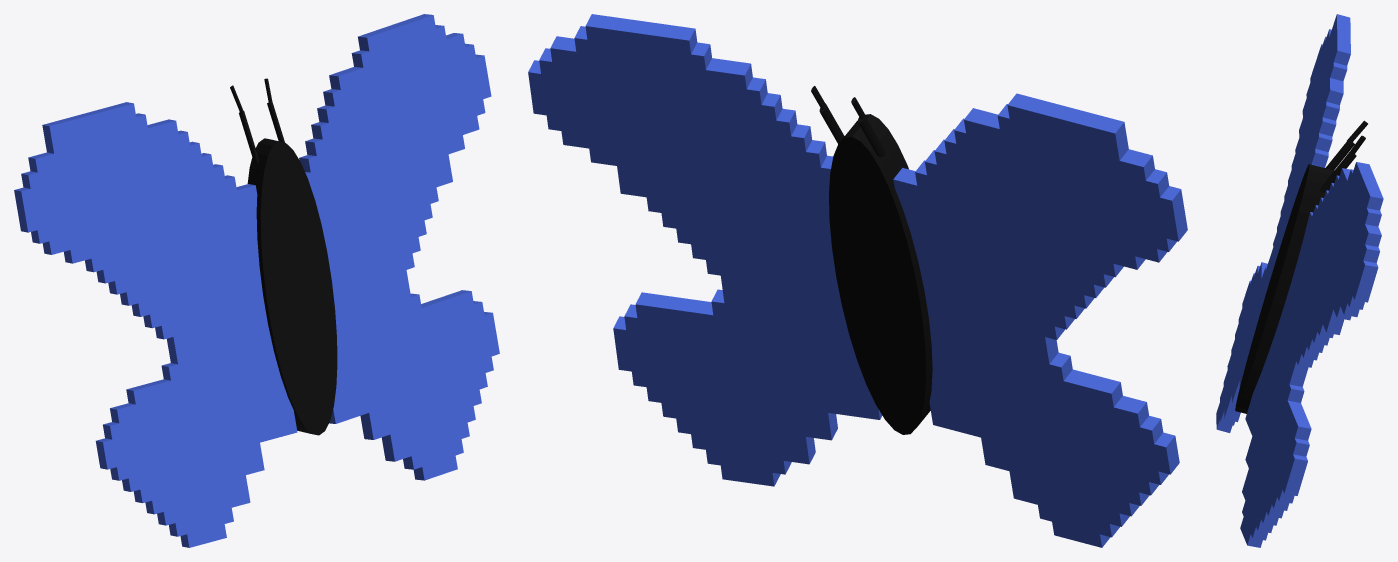
The model's file is butterfly.fbx.
3 renders of one model, left to right at view 1: azimuth 30°, elevation 25°; view 2: azimuth 150°, elevation 25°; view 3: azimuth 270°, elevation 25°, orthographic. The views are drawn at different scales.
Parts seen in each view (by area): view 1: Left_Wing, Right_Wing, Body; view 2: Right_Wing, Left_Wing, Body; view 3: Right_Wing, Left_Wing, Body.
Part boxes in pixels (x1=…): Left_Wing: x1=14, y1=102, x2=297, y2=547; Right_Wing: x1=299, y1=14, x2=499, y2=480; Body: x1=230, y1=78, x2=337, y2=435; Right_Wing: x1=528, y1=14, x2=882, y2=486; Left_Wing: x1=893, y1=93, x2=1187, y2=547; Body: x1=811, y1=86, x2=932, y2=434; Right_Wing: x1=1240, y1=162, x2=1383, y2=547; Left_Wing: x1=1216, y1=14, x2=1350, y2=432; Body: x1=1235, y1=120, x2=1367, y2=413.
Bounding box in the file's own units: 74.47 × 58.51 × 23.77.
